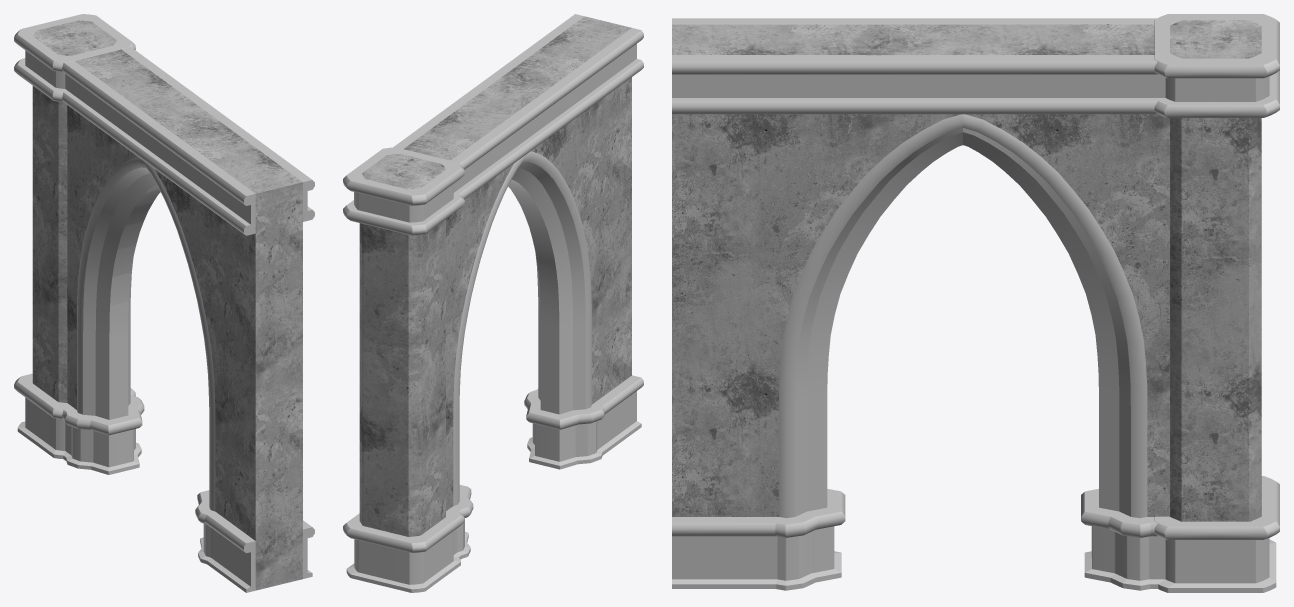
The model's file is SM_Wallkit_Gate_Proc_01c.fbx.
The picture shows the model from 3 angles, left to right: view 1: azimuth 30°, elevation 25°; view 2: azimuth 150°, elevation 25°; view 3: azimuth 270°, elevation 25°; orthographic projection. The views are drawn at different scales.
Visible parts, largest first — view 1: SM_Wallkit_Gate_Proc_01c_LOD0; view 2: SM_Wallkit_Gate_Proc_01c_LOD0; view 3: SM_Wallkit_Gate_Proc_01c_LOD0.
Part boxes in pixels (x1=…): SM_Wallkit_Gate_Proc_01c_LOD0: x1=14, y1=14, x2=314, y2=592; SM_Wallkit_Gate_Proc_01c_LOD0: x1=343, y1=14, x2=643, y2=592; SM_Wallkit_Gate_Proc_01c_LOD0: x1=672, y1=14, x2=1279, y2=592.
Size of the model in its own units: 175 by 835 by 801.
